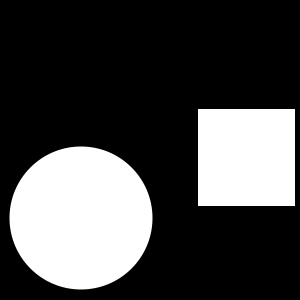circle: (198, 109, 295, 206)
rectangle: (10, 146, 152, 290), (90, 228, 136, 274)
